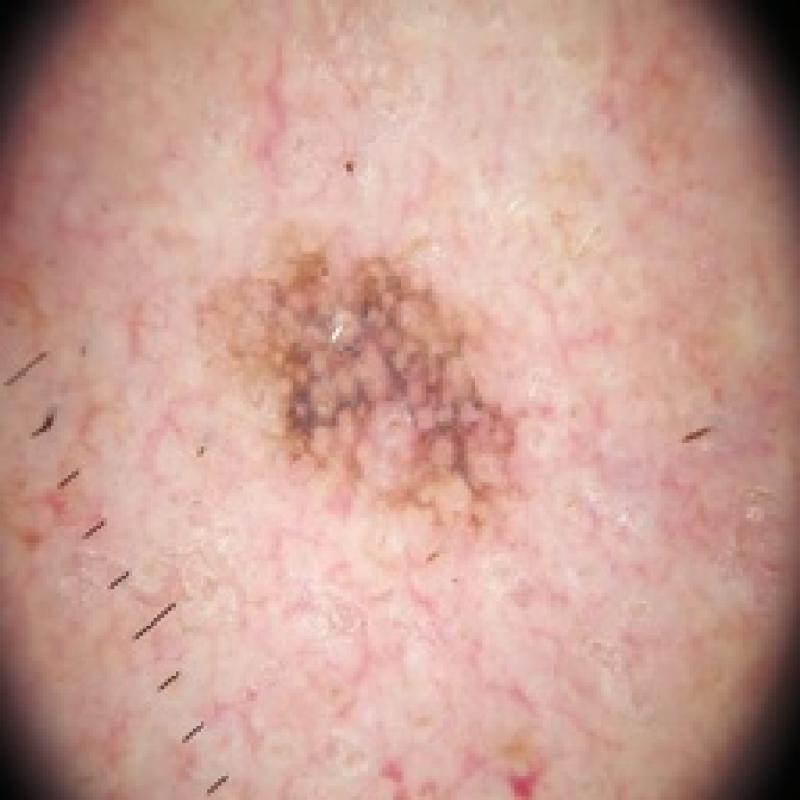malignant: (184, 216, 548, 532)
